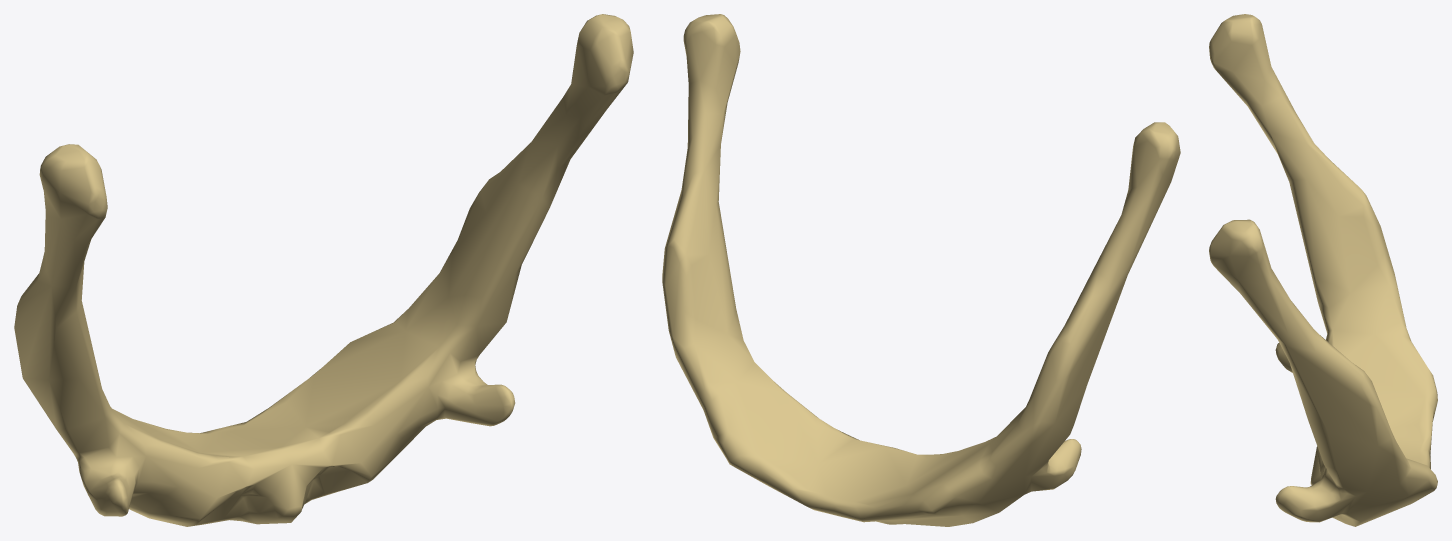
3 views of the same model, side by side, from view 1: azimuth 30°, elevation 25°; view 2: azimuth 150°, elevation 25°; view 3: azimuth 270°, elevation 25° (orthographic). The views are drawn at different scales.
Parts seen in each view (by area): view 1: 舌骨; view 2: 舌骨; view 3: 舌骨.
Part boxes in pixels (bbox=[...]): 舌骨: bbox=[14, 14, 633, 526]; 舌骨: bbox=[662, 14, 1180, 526]; 舌骨: bbox=[1209, 14, 1437, 526].
Bounding box in the file's own units: 0.067 × 0.053 × 0.0288.
